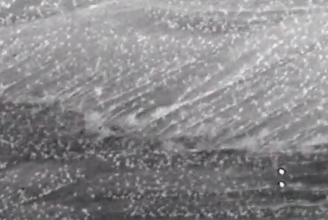Target: (279, 169, 283, 186)
